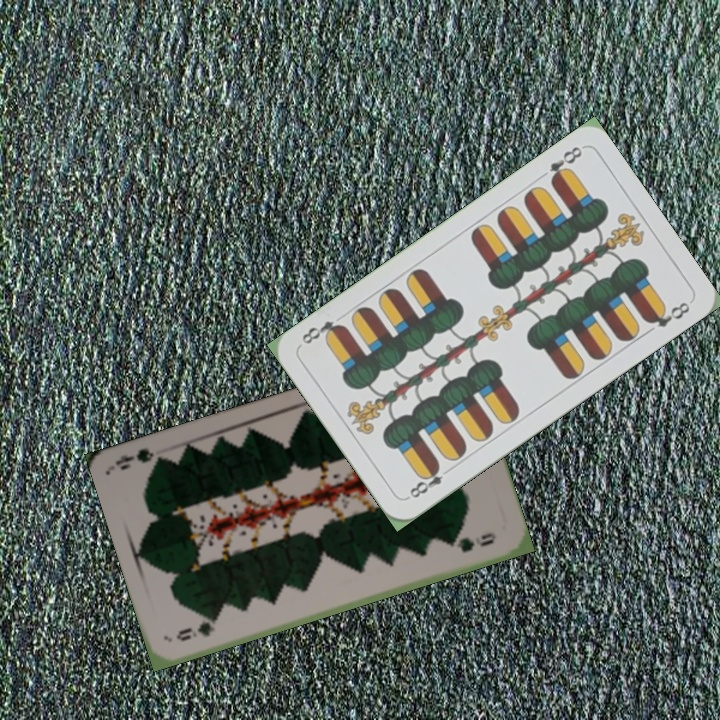E8: (403, 460, 455, 502), (545, 142, 585, 187)
G9: (172, 615, 221, 644)
